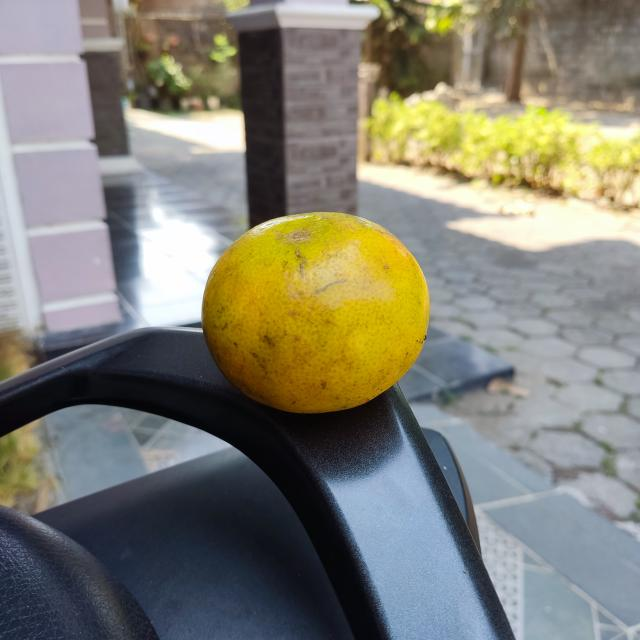orange: (198, 208, 432, 412)
